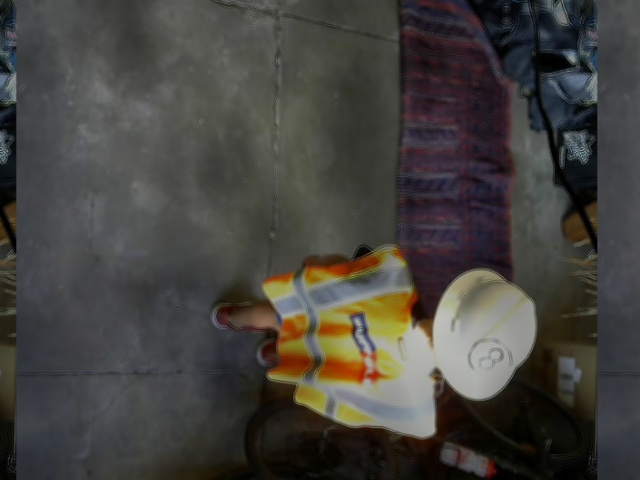eight: (468, 337, 514, 375)
